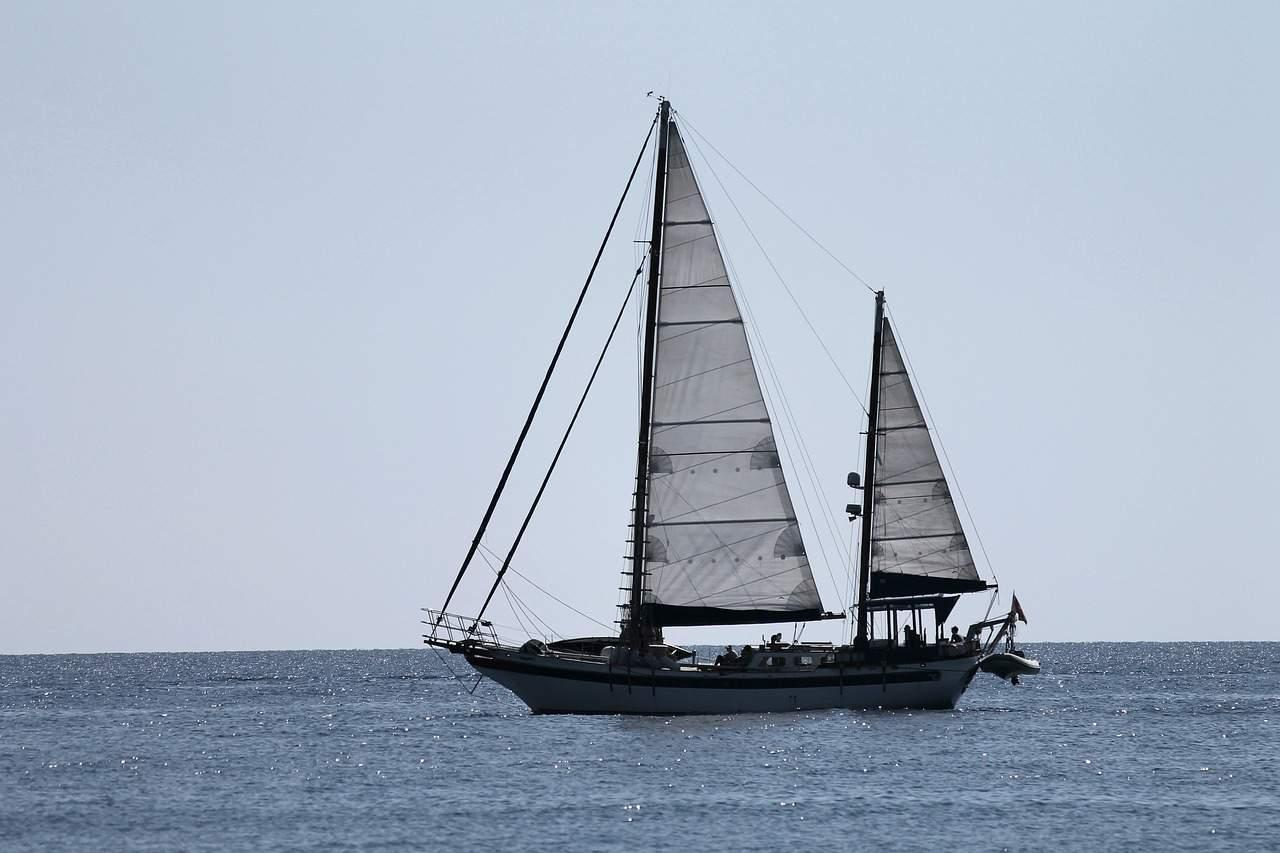Ship: (421, 95, 1039, 716)
